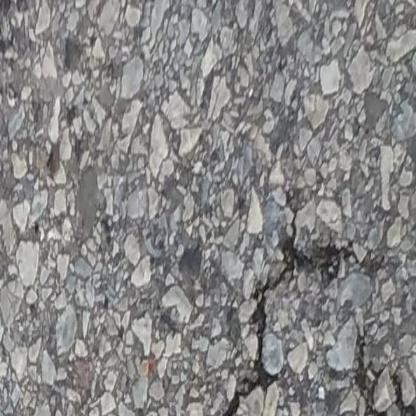Cracks: (212, 229, 360, 416)
